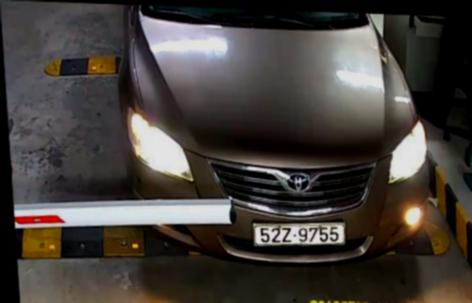License_Plate: (249, 216, 352, 251)
